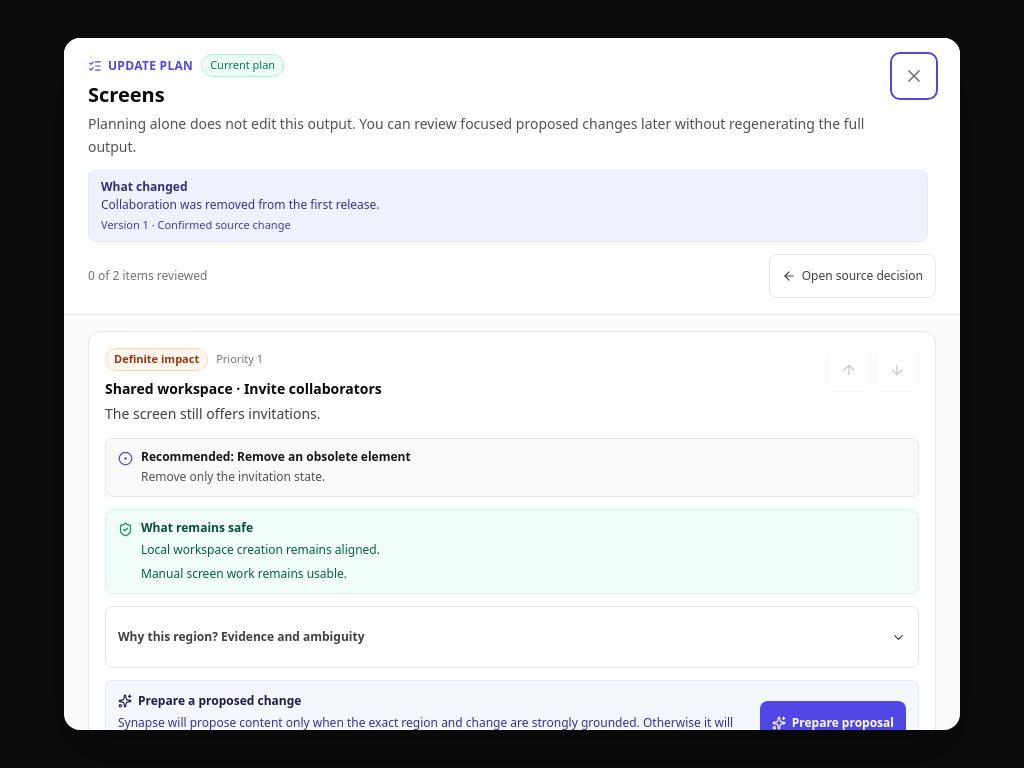
it: DownstreamUpdatePlanReview › applies an approved change and presents its automatic aligned verification as one result
Click the button "Prepare proposal".
click(833, 723)  # box left=760, top=701, right=906, bottom=745
(page scrolled)
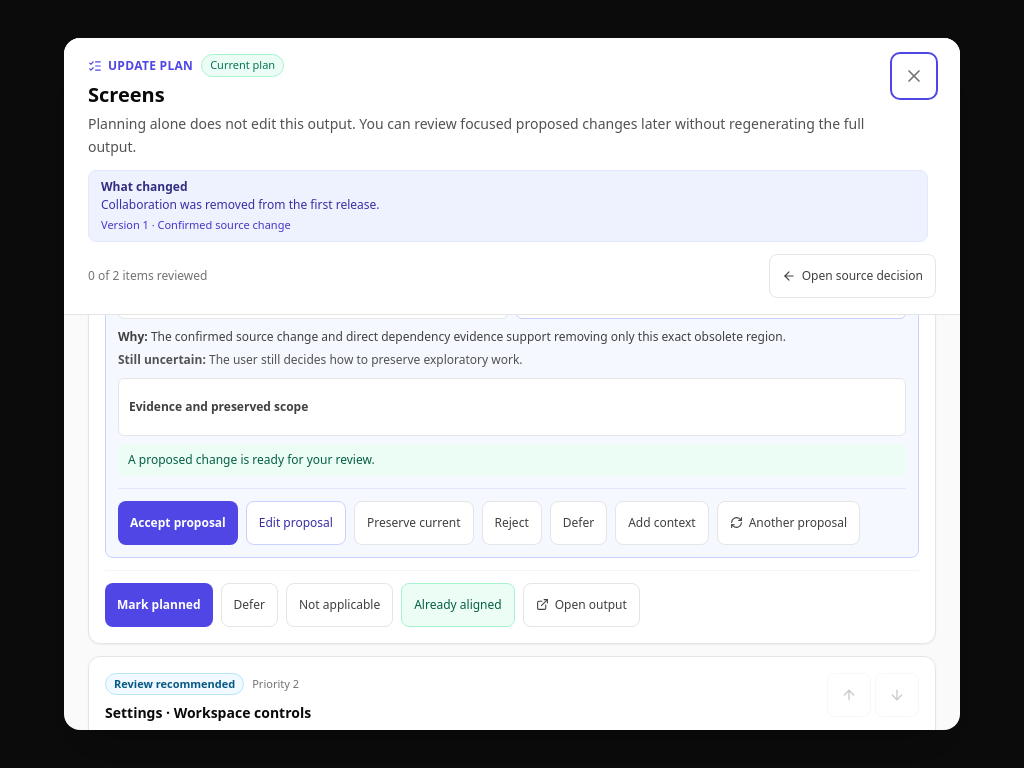
Click the button "Accept proposal".
click(178, 523)  # box left=118, top=501, right=238, bottom=545
(page scrolled)
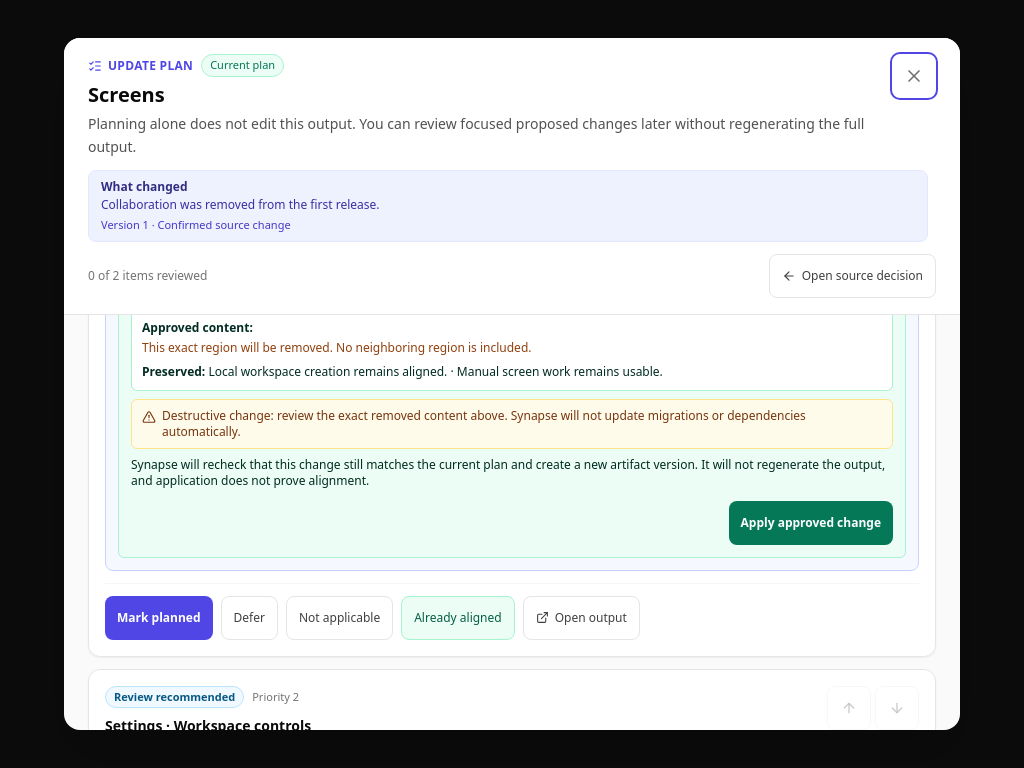
Click the button "Apply approved change".
click(811, 523)  # box left=729, top=501, right=893, bottom=545
(page scrolled)
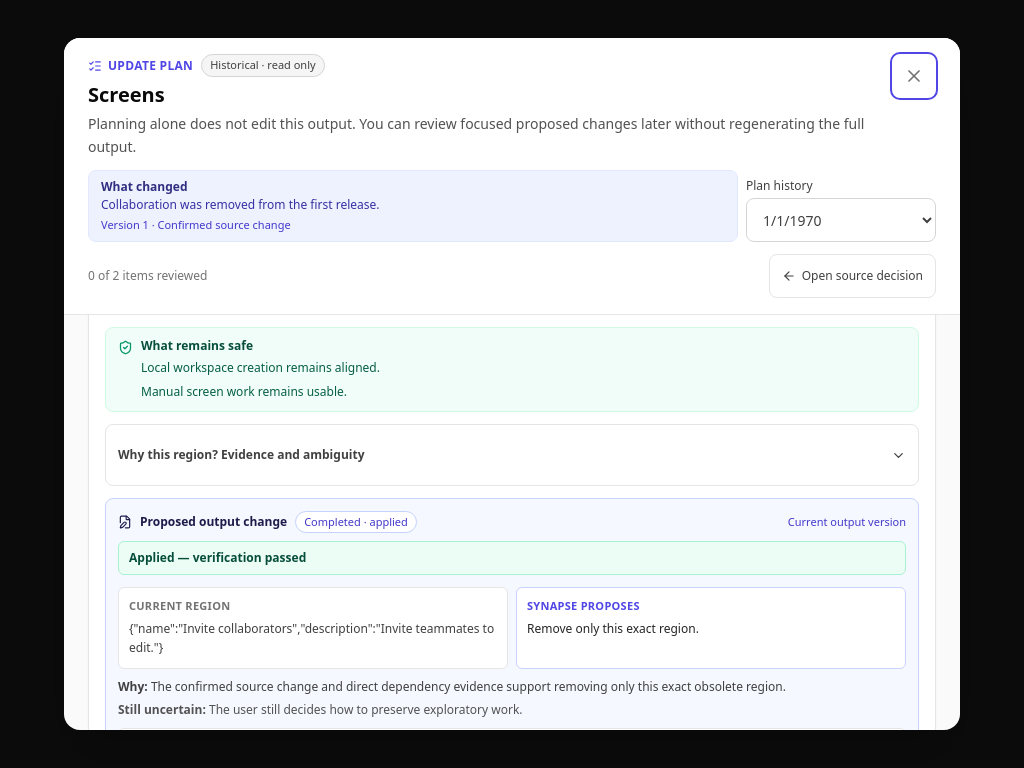
Expected: the button "Accept proposal" is not shown
Result: the message reads "Applied — verification passed" at left=129, top=549, right=306, bottom=566
Result: the text "Completed · applied" is shown at left=295, top=511, right=417, bottom=533
